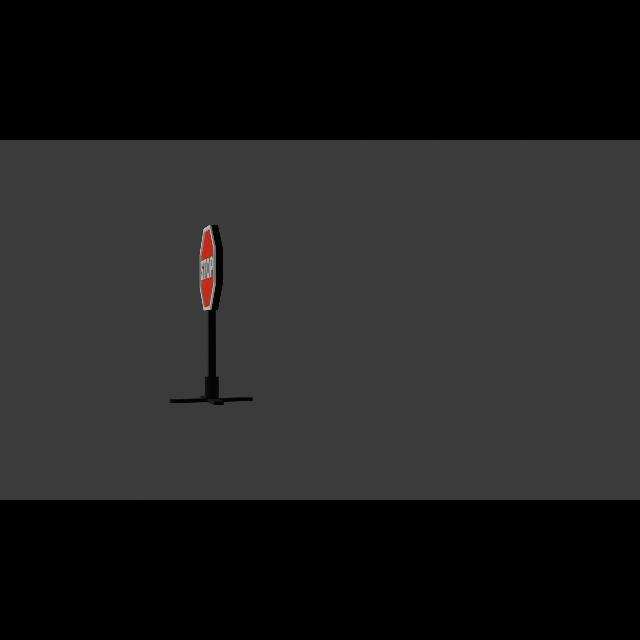sign_stop: (199, 225, 223, 312)
